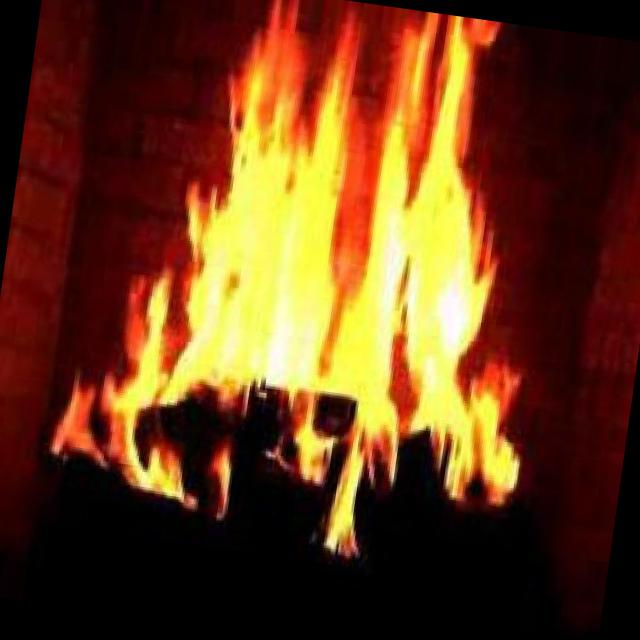Fire: (35, 0, 578, 575)
